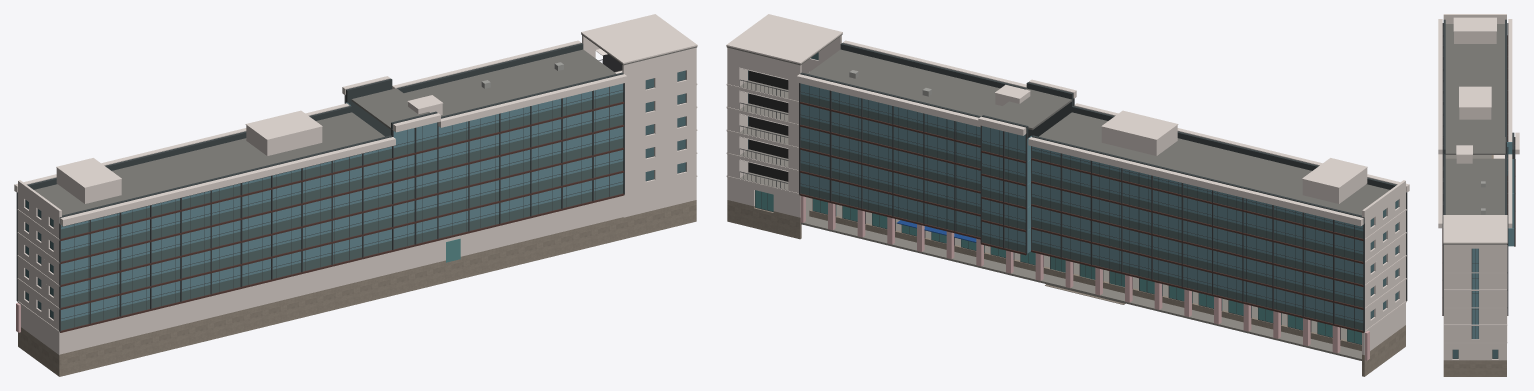
3 renders of one model, left to right at view 1: azimuth 30°, elevation 25°; view 2: azimuth 150°, elevation 25°; view 3: azimuth 270°, elevation 25°, orthographic. The views are drawn at different scales.
Parts seen in each view (by area): view 1: w451562726__pink-wall, w451562726__curtain-glass, w451562726__spandrel-glass, w451562726__plinth-wall, w451562726__roof, w451562726__trim, w451562726__mullion, w451562726__band-brown, w451562726__spandrel-wall, w451562726__glass; view 2: w451562726__curtain-glass, w451562726__spandrel-glass, w451562726__roof, w451562726__pink-wall, w451562726__trim, w451562726__mullion, w451562726__floor-slab, w451562726__band-brown, w451562726__plinth-wall, w451562726__spandrel-wall, w451562726__column, w451562726__shop-glass (+4 smaller); view 3: w451562726__roof, w451562726__pink-wall, w451562726__trim, w451562726__mullion, w451562726__plinth-wall, w451562726__curtain-glass, w451562726__spandrel-wall, w451562726__frame, w451562726__band-brown, w451562726__floor-slab, w451562726__glass.
Boxes of the visible parts, x1,y1,x2,y2 form: w451562726__pink-wall: (18, 35, 696, 354); w451562726__curtain-glass: (61, 83, 623, 321); w451562726__spandrel-glass: (61, 92, 623, 330); w451562726__plinth-wall: (18, 200, 696, 376); w451562726__roof: (34, 34, 697, 215); w451562726__trim: (14, 14, 697, 332); w451562726__mullion: (16, 83, 624, 331); w451562726__band-brown: (17, 101, 624, 332); w451562726__spandrel-wall: (27, 43, 623, 222); w451562726__glass: (25, 70, 685, 318); w451562726__curtain-glass: (748, 70, 1363, 322); w451562726__spandrel-glass: (800, 94, 1363, 330); w451562726__roof: (726, 34, 1389, 215); w451562726__pink-wall: (727, 35, 1405, 355); w451562726__trim: (726, 14, 1409, 332); w451562726__mullion: (799, 83, 1407, 332); w451562726__floor-slab: (739, 80, 1361, 360); w451562726__band-brown: (799, 101, 1364, 332); w451562726__plinth-wall: (727, 200, 1405, 376); w451562726__spandrel-wall: (800, 43, 1396, 223); w451562726__column: (800, 196, 1369, 360); w451562726__shop-glass: (755, 190, 1361, 344); w451562726__roof: (1443, 24, 1507, 244); w451562726__pink-wall: (1443, 14, 1506, 360); w451562726__trim: (1438, 17, 1519, 343); w451562726__mullion: (1442, 23, 1515, 315); w451562726__plinth-wall: (1443, 155, 1506, 376); w451562726__curtain-glass: (1472, 142, 1514, 338); w451562726__spandrel-wall: (1443, 19, 1514, 214); w451562726__frame: (1452, 249, 1498, 358); w451562726__band-brown: (1442, 35, 1515, 315); w451562726__floor-slab: (1445, 155, 1498, 358); w451562726__glass: (1453, 349, 1497, 358).
Bounding box in the file's own units: 105 × 27.7 × 15.2.
21 materials, 1 textured.
